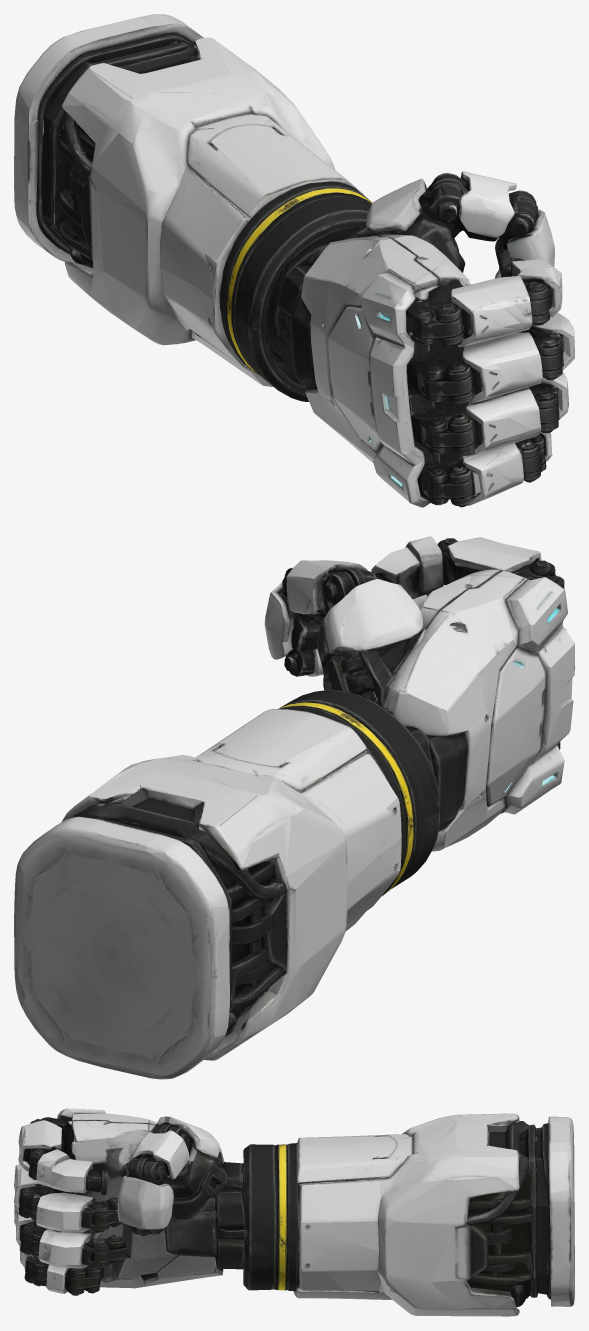
The model's file is Meshy_AI_Droid_Grip_Hand_source.glb.
3 views of the same model, one above another, from view 1: azimuth 30°, elevation 25°; view 2: azimuth 150°, elevation 25°; view 3: azimuth 270°, elevation 25° (orthographic). The views are drawn at different scales.
Parts seen in each view (by area): view 1: mesh_node; view 2: mesh_node; view 3: mesh_node.
Part boxes in pixels (x1,y1,x2,y2): mesh_node: (14, 14, 574, 507); mesh_node: (14, 536, 574, 1079); mesh_node: (14, 1108, 574, 1316).
Bounding box in the file's own units: 0.6716 × 0.7108 × 1.9.
1 material, 1 textured.
